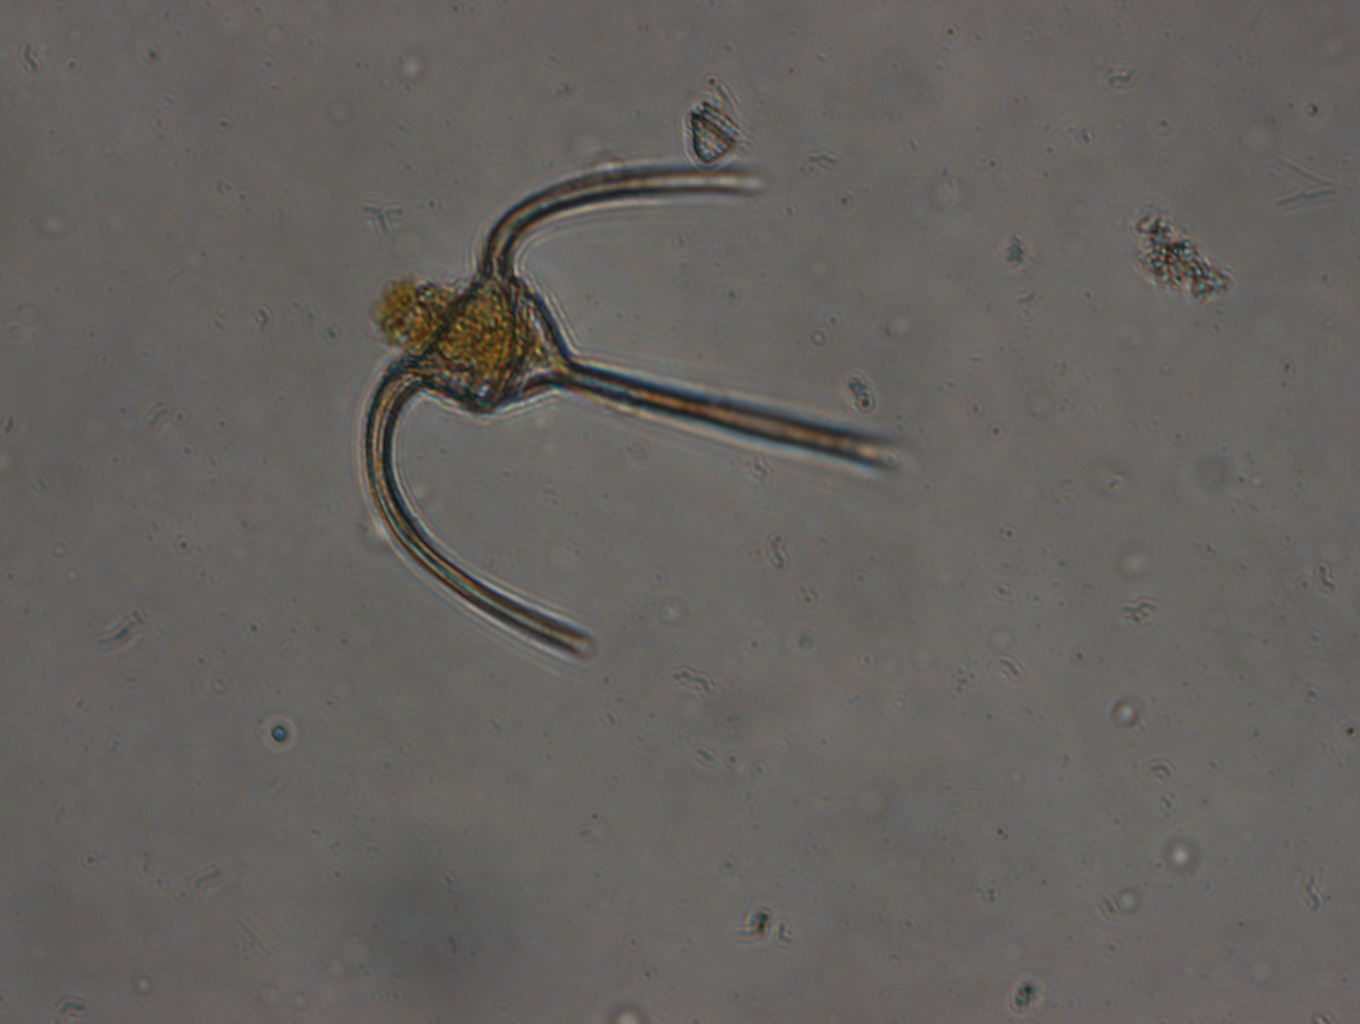ceratium trichoceros: (349, 151, 924, 664)
